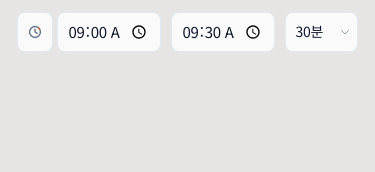
Test: TimeRangeSelectors — 지금 맞춤 › 버튼 클릭 시 시작 시각이 5분 단위로 스냅된 현재 시각으로 바뀌고 구간 유지로 종료가 갱신된다
Click the button named "시작 시간을 현재 시각으로 맞추기": (34, 32) [16,12,52,52]
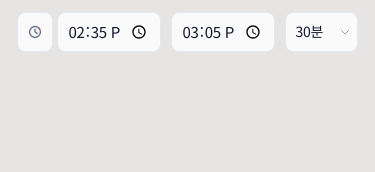
expect the 2nd time field named "종료 시간 선택" holds "15:05": met, box [170,12,274,52]
